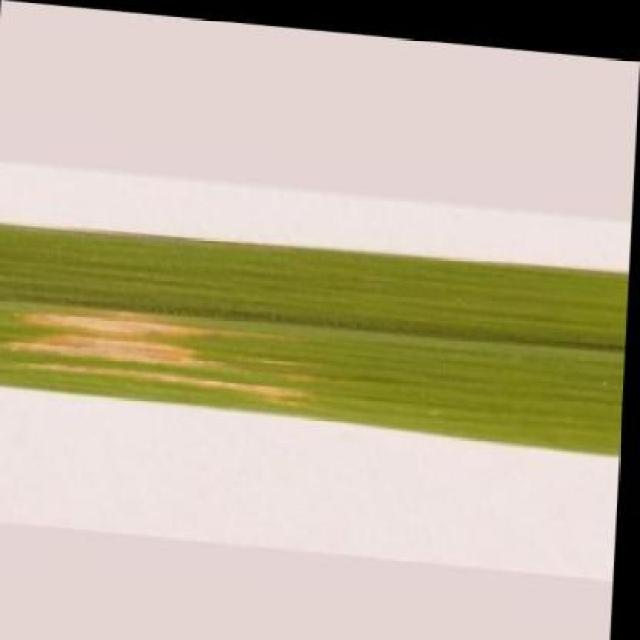Brown_Spot: (0, 210, 631, 448)
